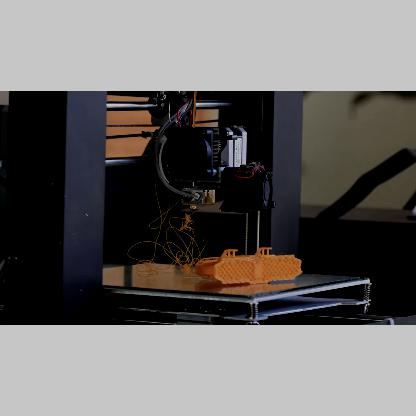fail: (131, 208, 197, 276)
